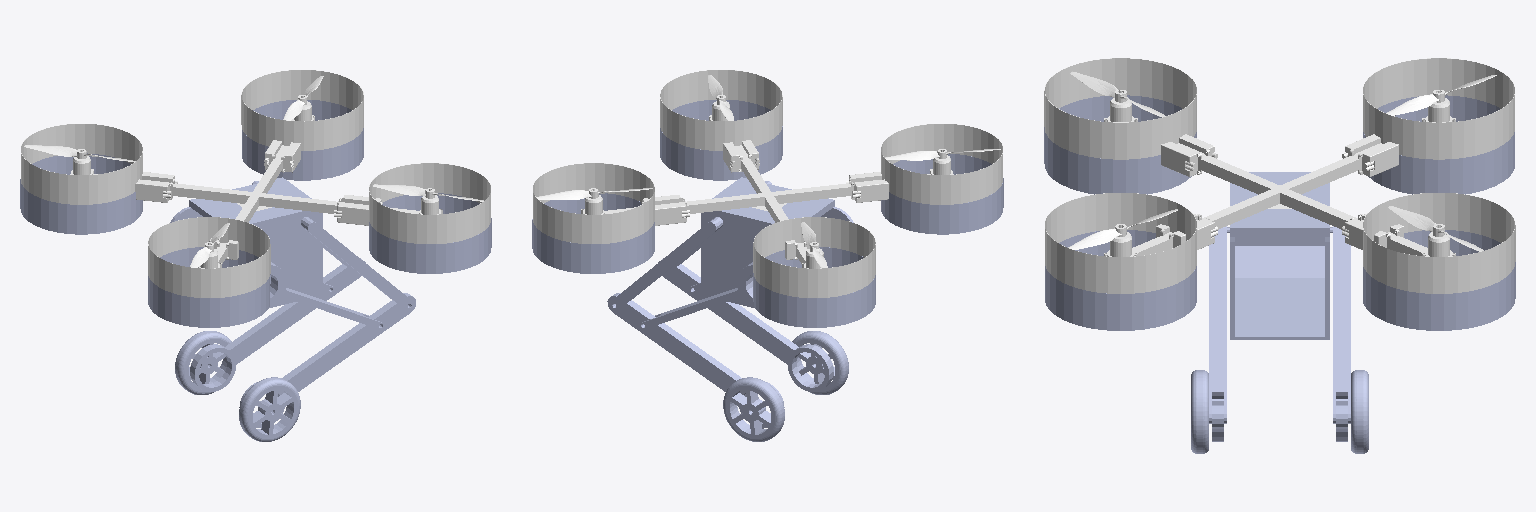
--- What the picture shows (computed from the rendered views, not written in the file) ---
The picture shows the robot from 3 angles, left to right: view 1: azimuth 30°, elevation 25°; view 2: azimuth 150°, elevation 25°; view 3: azimuth 270°, elevation 25°; orthographic projection.
Robot: flycar — 30 links, 29 joints (6 revolute, 2 continuous, 21 fixed); root link base_link; default pose: every joint at zero.
Visible links, largest first — view 1: shan2, sahn4, shan1, shan3, tou, shan21, shan41, shan11, shan31, youxia11, base_link, zuolun1 (+6 smaller); view 2: shan3, shan1, sahn4, shan2, tou, shan31, shan11, shan41, shan21, zuoxia, base_link, youlun (+6 smaller); view 3: tou, sahn4, shan2, shan1, shan3, shan31, shan21, base_link, shan11, shan41, zuo11, you11 (+6 smaller).
Link boxes in pixels (x1,y1,x2,y2): shan2: (369, 163, 490, 243); sahn4: (21, 124, 142, 204); shan1: (148, 217, 270, 297); shan3: (241, 70, 363, 150); tou: (170, 177, 322, 307); shan21: (369, 193, 491, 273); shan41: (20, 153, 142, 234); shan11: (148, 247, 269, 327); shan31: (242, 100, 363, 180); youxia11: (190, 258, 365, 391); base_link: (93, 145, 418, 263); zuolun1: (239, 377, 300, 441); shan3: (533, 163, 654, 243); shan1: (881, 124, 1002, 204); sahn4: (753, 217, 875, 297); shan2: (660, 70, 782, 150); tou: (701, 177, 853, 307); shan31: (532, 193, 654, 273); shan11: (881, 154, 1003, 234); shan41: (753, 247, 875, 327); shan21: (660, 100, 782, 180); zuoxia: (658, 258, 833, 391); base_link: (605, 145, 930, 263); youlun: (723, 377, 784, 441); tou: (1227, 172, 1332, 339); sahn4: (1363, 58, 1514, 159); shan2: (1045, 193, 1196, 293); shan1: (1044, 58, 1196, 159); shan3: (1363, 193, 1515, 293); shan31: (1363, 230, 1515, 330); shan21: (1045, 230, 1196, 330); base_link: (1132, 143, 1427, 255); shan11: (1044, 95, 1196, 194); shan41: (1363, 95, 1514, 194); zuo11: (1209, 226, 1226, 423); you11: (1333, 226, 1350, 423).
Size in the robot's own frame: 0.7853 by 0.7853 by 0.5581 metres.
Meshes: 30 distinct files referenced, 26 mesh visuals loaded (26 binary STL); not drawn: 4 (reference not matched to a file when rendering).

robot.urdf — flycar:
<?xml version="1.0" encoding="utf-8"?>
<!-- This URDF was automatically created by SolidWorks to URDF Exporter! Originally created by Stephen Brawner ([email redacted]) 
     Commit Version: 1.6.0-4-g7f85cfe  Build Version: 1.6.7995.38578
     For more information, please see http://wiki.ros.org/sw_urdf_exporter -->
<robot
  name="flycar">
  <link
    name="base_link">
    <inertial>
      <origin
        xyz="-0.0182124633794695 -0.279999999999859 0.0962073296263657"
        rpy="0 0 0" />
      <mass
        value="0.650996744463774" />
      <inertia
        ixx="0.0147521285230154"
        ixy="-1.98316660206466E-14"
        ixz="1.64644284963636E-15"
        iyy="0.0147521285230157"
        iyz="1.28047444670551E-16"
        izz="0.0294437767852134" />
    </inertial>
    <visual>
      <origin
        xyz="0 0 0"
        rpy="0 0 0" />
      <geometry>
        <mesh
          filename="package://flycar/meshes/base_link.STL" />
      </geometry>
      <material
        name="">
        <color
          rgba="1 1 1 1" />
      </material>
    </visual>
    <collision>
      <origin
        xyz="0 0 0"
        rpy="0 0 0" />
      <geometry>
        <mesh
          filename="package://flycar/meshes/base_link.STL" />
      </geometry>
    </collision>
  </link>
  <link
    name="shan1">
    <inertial>
      <origin
        xyz="0.0130510061555961 0.00670922605388478 0.380734911996731"
        rpy="0 0 0" />
      <mass
        value="0.091059098694857" />
      <inertia
        ixx="0.000254430172839092"
        ixy="3.98832476084305E-12"
        ixz="9.87669263163625E-06"
        iyy="0.000472158411726339"
        iyz="2.73585065381819E-11"
        izz="0.00025785072195545" />
    </inertial>
    <visual>
      <origin
        xyz="0 0 0"
        rpy="0 0 0" />
      <geometry>
        <mesh
          filename="package://flycar/meshes/shan1.STL" />
      </geometry>
      <material
        name="">
        <color
          rgba="1 1 1 1" />
      </material>
    </visual>
    <collision>
      <origin
        xyz="0 0 0"
        rpy="0 0 0" />
      <geometry>
        <mesh
          filename="package://flycar/meshes/shan1.STL" />
      </geometry>
    </collision>
  </link>
  <joint
    name="blade1up"
    type="fixed">
    <origin
      xyz="-0.29643 -0.16443 0.12194"
      rpy="1.5708 0 0" />
    <parent
      link="base_link" />
    <child
      link="shan1" />
    <axis
      xyz="0 0 0" />
  </joint>
  <link
    name="shan2">
    <inertial>
      <origin
        xyz="0.0613233745309867 0.0363128625038329 -0.00299422071796496"
        rpy="0 0 0" />
      <mass
        value="0.0910590982796897" />
      <inertia
        ixx="0.000262541844060338"
        ixy="1.5070280984683E-11"
        ixz="7.71337321262446E-06"
        iyy="0.000472158406197901"
        iyz="2.32021279961897E-11"
        izz="0.000249739045209857" />
    </inertial>
    <visual>
      <origin
        xyz="0 0 0"
        rpy="0 0 0" />
      <geometry>
        <mesh
          filename="package://flycar/meshes/shan2.STL" />
      </geometry>
      <material
        name="">
        <color
          rgba="1 1 1 1" />
      </material>
    </visual>
    <collision>
      <origin
        xyz="0 0 0"
        rpy="0 0 0" />
      <geometry>
        <mesh
          filename="package://flycar/meshes/shan2.STL" />
      </geometry>
    </collision>
  </link>
  <joint
    name="blade2up"
    type="fixed">
    <origin
      xyz="0.22399 -0.60211 0.092336"
      rpy="1.5708 0 1.1387" />
    <parent
      link="base_link" />
    <child
      link="shan2" />
    <axis
      xyz="0 0 0" />
  </joint>
  <link
    name="shan3">
    <inertial>
      <origin
        xyz="0.0130510059163607 0.00670922598726396 0.380734912242198"
        rpy="0 0 0" />
      <mass
        value="0.0910590984874694" />
      <inertia
        ixx="0.000254430171318802"
        ixy="3.97103585018592E-12"
        ixz="9.87669084123789E-06"
        iyy="0.00047215840811114"
        iyz="2.73817318194871E-11"
        izz="0.000257850719864821" />
    </inertial>
    <visual>
      <origin
        xyz="0 0 0"
        rpy="0 0 0" />
      <geometry>
        <mesh
          filename="package://flycar/meshes/shan3.STL" />
      </geometry>
      <material
        name="fist">
        <color
          rgba="1 1 1 1" />
      </material>
    </visual>
    <collision>
      <origin
        xyz="0 0 0"
        rpy="0 0 0" />
      <geometry>
        <mesh
          filename="package://flycar/meshes/shan3.STL" />
      </geometry>
    </collision>
  </link>
  <joint
    name="blade3up"
    type="fixed">
    <origin
      xyz="0.26 -0.39557 0.12194"
      rpy="1.5708 0 3.1416" />
    <parent
      link="base_link" />
    <child
      link="shan3" />
    <axis
      xyz="0 0 0" />
  </joint>
  <link
    name="sahn4">
    <inertial>
      <origin
        xyz="0.013051006225007 -0.00670922590719912 -0.38073491195847"
        rpy="0 0 0" />
      <mass
        value="0.0910590981925272" />
      <inertia
        ixx="0.000254430171057355"
        ixy="-3.98509281177033E-12"
        ixz="-9.87669055865808E-06"
        iyy="0.000472158407519526"
        iyz="2.73644666983244E-11"
        izz="0.000257850719529874" />
    </inertial>
    <visual>
      <origin
        xyz="0 0 0"
        rpy="0 0 0" />
      <geometry>
        <mesh
          filename="package://flycar/meshes/sahn4.STL" />
      </geometry>
      <material
        name="">
        <color
          rgba="1 1 1 1" />
      </material>
    </visual>
    <collision>
      <origin
        xyz="0 0 0"
        rpy="0 0 0" />
      <geometry>
        <mesh
          filename="package://flycar/meshes/sahn4.STL" />
      </geometry>
    </collision>
  </link>
  <joint
    name="blade4up"
    type="fixed">
    <origin
      xyz="0.097357 -0.001784 0.12194"
      rpy="-1.5708 0 -1.5708" />
    <parent
      link="base_link" />
    <child
      link="sahn4" />
    <axis
      xyz="0 0 0" />
  </joint>
  <link
    name="tou">
    <inertial>
      <origin
        xyz="-0.134824310995846 0.115041097999054 -0.0750000000000001"
        rpy="0 0 0" />
      <mass
        value="1.522713843331" />
      <inertia
        ixx="0.0149257458036302"
        ixy="-0.000921583154264689"
        ixz="3.90000326433926E-18"
        iyy="0.0167821545637735"
        iyz="1.17137314330476E-18"
        izz="0.0184692661677145" />
    </inertial>
    <visual>
      <origin
        xyz="0 0 0"
        rpy="0 0 0" />
      <geometry>
        <mesh
          filename="package://flycar/meshes/tou.STL" />
      </geometry>
      <material
        name="">
        <color
          rgba="0.792156862745098 0.819607843137255 0.933333333333333 1" />
      </material>
    </visual>
    <collision>
      <origin
        xyz="0 0 0"
        rpy="0 0 0" />
      <geometry>
        <mesh
          filename="package://flycar/meshes/tou.STL" />
      </geometry>
    </collision>
  </link>
  <joint
    name="head"
    type="fixed">
    <origin
      xyz="0.094742 -0.355 -0.11666"
      rpy="1.5708 0 0" />
    <parent
      link="base_link" />
    <child
      link="tou" />
    <axis
      xyz="0 0 0" />
  </joint>
  <link
    name="zuo">
    <inertial>
      <origin
        xyz="0.0716717779429541 8.32667268468867E-17 0.0150000000000001"
        rpy="0 0 0" />
      <mass
        value="0.254971008311362" />
      <inertia
        ixx="0.000143913945586389"
        ixy="3.18484388167617E-19"
        ixz="-3.24407258987913E-18"
        iyy="0.00246825453258363"
        iyz="-9.74764294418046E-20"
        izz="0.00257290646446158" />
    </inertial>
    <visual>
      <origin
        xyz="0 0 0"
        rpy="0 0 0" />
      <geometry>
        <mesh
          filename="package://flycar/meshes/zuo.STL" />
      </geometry>
      <material
        name="">
        <color
          rgba="0.792156862745098 0.819607843137255 0.933333333333333 1" />
      </material>
    </visual>
    <collision>
      <origin
        xyz="0 0 0"
        rpy="0 0 0" />
      <geometry>
        <mesh
          filename="package://flycar/meshes/zuo.STL" />
      </geometry>
    </collision>
  </link>
  <joint
    name="left hip"
    type="revolute">
    <origin
      xyz="-0.15637 0.068631 0.013"
      rpy="0 0 -0.50761" />
    <parent
      link="tou" />
    <child
      link="zuo" />
    <axis
      xyz="0 0 1" />
    <limit
      lower="0"
      upper="0"
      effort="0"
      velocity="0" />
  </joint>
  <link
    name="zuoxia">
    <inertial>
      <origin
        xyz="-0.194914767890928 1.17683640610267E-14 0.00999999999999973"
        rpy="0 0 0" />
      <mass
        value="0.327867300642188" />
      <inertia
        ixx="0.000105165440495972"
        ixy="5.83436294068762E-18"
        ixz="-6.63804471836475E-18"
        iyy="0.00495572549888622"
        iyz="4.65228864046098E-20"
        izz="0.00503903311933938" />
    </inertial>
    <visual>
      <origin
        xyz="0 0 0"
        rpy="0 0 0" />
      <geometry>
        <mesh
          filename="package://flycar/meshes/zuoxia.STL" />
      </geometry>
      <material
        name="">
        <color
          rgba="0.792156862745098 0.819607843137255 0.933333333333333 1" />
      </material>
    </visual>
    <collision>
      <origin
        xyz="0 0 0"
        rpy="0 0 0" />
      <geometry>
        <mesh
          filename="package://flycar/meshes/zuoxia.STL" />
      </geometry>
    </collision>
  </link>
  <joint
    name="left ankle"
    type="revolute">
    <origin
      xyz="0.36022 0.059837 0.005"
      rpy="0 0 0.92369" />
    <parent
      link="zuo" />
    <child
      link="zuoxia" />
    <axis
      xyz="0 0 1" />
    <limit
      lower="0"
      upper="0"
      effort="0"
      velocity="0" />
  </joint>
  <link
    name="lun1">
    <inertial>
      <origin
        xyz="2.45636844198316E-14 4.40758540776187E-14 0.0150000000000002"
        rpy="0 0 0" />
      <mass
        value="0.297523179657174" />
      <inertia
        ixx="0.000436067791446482"
        ixy="-2.16840434497101E-19"
        ixz="-1.57926199076428E-19"
        iyy="0.000436067791446482"
        iyz="2.71465102576709E-19"
        izz="0.000830824034432122" />
    </inertial>
    <visual>
      <origin
        xyz="0 0 0"
        rpy="0 0 0" />
      <geometry>
        <mesh
          filename="package://flycar/meshes/lun1.STL" />
      </geometry>
      <material
        name="">
        <color
          rgba="0.792156862745098 0.819607843137255 0.933333333333333 1" />
      </material>
    </visual>
    <collision>
      <origin
        xyz="0 0 0"
        rpy="0 0 0" />
      <geometry>
        <mesh
          filename="package://flycar/meshes/lun1.STL" />
      </geometry>
    </collision>
  </link>
  <joint
    name="left wheel"
    type="continuous">
    <origin
      xyz="-0.376 0 0.025"
      rpy="0 0 -0.5493" />
    <parent
      link="zuoxia" />
    <child
      link="lun1" />
    <axis
      xyz="0 0 1" />
  </joint>
  <link
    name="you">
    <inertial>
      <origin
        xyz="0.0694143647456296 -0.137599241336888 -0.0149999999999999"
        rpy="0 0 0" />
      <mass
        value="0.254971008311362" />
      <inertia
        ixx="0.000323097906280746"
        ixy="-0.000619981984101711"
        ixz="2.8974111371265E-18"
        iyy="0.00228907057188927"
        iyz="9.34453038612362E-19"
        izz="0.00257290646446158" />
    </inertial>
    <visual>
      <origin
        xyz="0 0 0"
        rpy="0 0 0" />
      <geometry>
        <mesh
          filename="package://flycar/meshes/you.STL" />
      </geometry>
      <material
        name="">
        <color
          rgba="0.792156862745098 0.819607843137255 0.933333333333333 1" />
      </material>
    </visual>
    <collision>
      <origin
        xyz="0 0 0"
        rpy="0 0 0" />
      <geometry>
        <mesh
          filename="package://flycar/meshes/you.STL" />
      </geometry>
    </collision>
  </link>
  <joint
    name="right hip"
    type="revolute">
    <origin
      xyz="-0.045 0.18 -0.163"
      rpy="0 0 -0.78896" />
    <parent
      link="tou" />
    <child
      link="you" />
    <axis
      xyz="0 0 1" />
    <limit
      lower="0"
      upper="0"
      effort="0"
      velocity="0" />
  </joint>
  <link
    name="youxia">
    <inertial>
      <origin
        xyz="-0.194914767890853 5.37903055430888E-14 0.0100000000000002"
        rpy="0 0 0" />
      <mass
        value="0.327867300642188" />
      <inertia
        ixx="0.000105165440495971"
        ixy="5.69544953733792E-18"
        ixz="6.34972695660545E-18"
        iyy="0.00495572549888621"
        iyz="-2.82976999504252E-20"
        izz="0.00503903311933937" />
    </inertial>
    <visual>
      <origin
        xyz="0 0 0"
        rpy="0 0 0" />
      <geometry>
        <mesh
          filename="package://flycar/meshes/youxia.STL" />
      </geometry>
      <material
        name="">
        <color
          rgba="0.792156862745098 0.819607843137255 0.933333333333333 1" />
      </material>
    </visual>
    <collision>
      <origin
        xyz="0 0 0"
        rpy="0 0 0" />
      <geometry>
        <mesh
          filename="package://flycar/meshes/youxia.STL" />
      </geometry>
    </collision>
  </link>
  <joint
    name="right ankle"
    type="revolute">
    <origin
      xyz="0.33 0 -0.025"
      rpy="0 0 1.205" />
    <parent
      link="you" />
    <child
      link="youxia" />
    <axis
      xyz="0 0 1" />
    <limit
      lower="0"
      upper="0"
      effort="0"
      velocity="0" />
  </joint>
  <link
    name="lun2">
    <inertial>
      <origin
        xyz="7.63278329429795E-17 -1.11022302462516E-16 0.015"
        rpy="0 0 0" />
      <mass
        value="0.297523179657174" />
      <inertia
        ixx="0.000436067791446482"
        ixy="-2.47333620598256E-19"
        ixz="1.42926984221252E-19"
        iyy="0.000436067791446482"
        iyz="-3.22439621145586E-19"
        izz="0.000830824034432122" />
    </inertial>
    <visual>
      <origin
        xyz="0 0 0"
        rpy="0 0 0" />
      <geometry>
        <mesh
          filename="package://flycar/meshes/lun2.STL" />
      </geometry>
      <material
        name="">
        <color
          rgba="0.792156862745098 0.819607843137255 0.933333333333333 1" />
      </material>
    </visual>
    <collision>
      <origin
        xyz="0 0 0"
        rpy="0 0 0" />
      <geometry>
        <mesh
          filename="package://flycar/meshes/lun2.STL" />
      </geometry>
    </collision>
  </link>
  <joint
    name="right wheel"
    type="continuous">
    <origin
      xyz="-0.376 0 -0.035"
      rpy="0 0 -0.5493" />
    <parent
      link="youxia" />
    <child
      link="lun2" />
    <axis
      xyz="0 0 1" />
  </joint>
  <link
    name="zuo11">
    <inertial>
      <origin
        xyz="0.150289069798095 6.93889390390723E-17 0.0150000000000002"
        rpy="0 0 0" />
      <mass
        value="0.225786466067855" />
      <inertia
        ixx="2.88599547146493E-05"
        ixy="-8.8430239693349E-19"
        ixz="-2.06336674063016E-18"
        iyy="0.00190962909286552"
        iyz="1.13866822034248E-20"
        izz="0.00190276024097599" />
    </inertial>
    <visual>
      <origin
        xyz="0 0 0"
        rpy="0 0 0" />
      <geometry>
        <mesh
          filename="package://flycar/meshes/zuo11.STL" />
      </geometry>
      <material
        name="">
        <color
          rgba="0.792156862745098 0.819607843137255 0.933333333333333 1" />
      </material>
    </visual>
    <collision>
      <origin
        xyz="0 0 0"
        rpy="0 0 0" />
      <geometry>
        <mesh
          filename="package://flycar/meshes/zuo11.STL" />
      </geometry>
    </collision>
  </link>
  <joint
    name="left shoulder"
    type="revolute">
    <origin
      xyz="-0.045 0.18 0.013"
      rpy="0 0 -0.78896" />
    <parent
      link="tou" />
    <child
      link="zuo11" />
    <axis
      xyz="0 0 1" />
    <limit
      lower="0"
      upper="0"
      effort="0"
      velocity="0" />
  </joint>
  <link
    name="zuoxia11">
    <inertial>
      <origin
        xyz="-0.194914767890928 1.17683640610267E-14 0.00999999999999973"
        rpy="0 0 0" />
      <mass
        value="0.327867300642188" />
      <inertia
        ixx="0.000105165440495971"
        ixy="5.45489218031769E-18"
        ixz="-6.63804471836475E-18"
        iyy="0.00495572549888622"
        iyz="4.65228864046102E-20"
        izz="0.00503903311933938" />
    </inertial>
    <visual>
      <origin
        xyz="0 0 0"
        rpy="0 0 0" />
      <geometry>
        <mesh
          filename="package://flycar/meshes/zuoxia11.STL" />
      </geometry>
      <material
        name="">
        <color
          rgba="0.792156862745098 0.819607843137255 0.933333333333333 1" />
      </material>
    </visual>
    <collision>
      <origin
        xyz="0 0 0"
        rpy="0 0 0" />
      <geometry>
        <mesh
          filename="package://flycar/meshes/zuoxia11.STL" />
      </geometry>
    </collision>
  </link>
  <joint
    name="left knee"
    type="fixed">
    <origin
      xyz="0.33 0 0.005"
      rpy="0 0 1.205" />
    <parent
      link="zuo11" />
    <child
      link="zuoxia11" />
    <axis
      xyz="0 0 0" />
    <limit
      lower="0"
      upper="0"
      effort="0"
      velocity="0" />
  </joint>
  <link
    name="zuolun1">
    <inertial>
      <origin
        xyz="2.45636844198316E-14 4.40758540776187E-14 0.0150000000000002"
        rpy="0 0 0" />
      <mass
        value="0.297523179657174" />
      <inertia
        ixx="0.000436067791446482"
        ixy="-2.23616698075135E-19"
        ixz="-1.57926199076428E-19"
        iyy="0.000436067791446482"
        iyz="2.71465102576709E-19"
        izz="0.000830824034432122" />
    </inertial>
    <visual>
      <origin
        xyz="0 0 0"
        rpy="0 0 0" />
      <geometry>
        <mesh
          filename="package://flycar/meshes/zuolun1.STL" />
      </geometry>
      <material
        name="">
        <color
          rgba="0.792156862745098 0.819607843137255 0.933333333333333 1" />
      </material>
    </visual>
    <collision>
      <origin
        xyz="0 0 0"
        rpy="0 0 0" />
      <geometry>
        <mesh
          filename="package://flycar/meshes/zuolun1.STL" />
      </geometry>
    </collision>
  </link>
  <joint
    name="left wheel1"
    type="fixed">
    <origin
      xyz="-0.376 0 0.025"
      rpy="0 0 -0.5493" />
    <parent
      link="zuoxia11" />
    <child
      link="zuolun1" />
    <axis
      xyz="0 0 0" />
  </joint>
  <link
    name="you11">
    <inertial>
      <origin
        xyz="0.150289069798095 -1.11022302462516E-16 -0.015"
        rpy="0 0 0" />
      <mass
        value="0.225786466067855" />
      <inertia
        ixx="2.88599547146491E-05"
        ixy="-6.61532731805609E-19"
        ixz="1.7903665450827E-18"
        iyy="0.00190962909286551"
        iyz="2.09060800354936E-20"
        izz="0.00190276024097599" />
    </inertial>
    <visual>
      <origin
        xyz="0 0 0"
        rpy="0 0 0" />
      <geometry>
        <mesh
          filename="package://flycar/meshes/you11.STL" />
      </geometry>
      <material
        name="">
        <color
          rgba="0.792156862745098 0.819607843137255 0.933333333333333 1" />
      </material>
    </visual>
    <collision>
      <origin
        xyz="0 0 0"
        rpy="0 0 0" />
      <geometry>
        <mesh
          filename="package://flycar/meshes/you11.STL" />
      </geometry>
    </collision>
  </link>
  <joint
    name="right shoulder"
    type="revolute">
    <origin
      xyz="-0.045 0.18 -0.163"
      rpy="0 0 -0.78896" />
    <parent
      link="tou" />
    <child
      link="you11" />
    <axis
      xyz="0 0 1" />
    <limit
      lower="0"
      upper="0"
      effort="0"
      velocity="0" />
  </joint>
  <link
    name="youxia11">
    <inertial>
      <origin
        xyz="-0.194914767890853 5.37903055430888E-14 0.0100000000000002"
        rpy="0 0 0" />
      <mass
        value="0.327867300642188" />
      <inertia
        ixx="0.000105165440495972"
        ixy="5.73610711880612E-18"
        ixz="6.34972695660545E-18"
        iyy="0.00495572549888621"
        iyz="-2.82976999504264E-20"
        izz="0.00503903311933937" />
    </inertial>
    <visual>
      <origin
        xyz="0 0 0"
        rpy="0 0 0" />
      <geometry>
        <mesh
          filename="package://flycar/meshes/youxia11.STL" />
      </geometry>
      <material
        name="">
        <color
          rgba="0.792156862745098 0.819607843137255 0.933333333333333 1" />
      </material>
    </visual>
    <collision>
      <origin
        xyz="0 0 0"
        rpy="0 0 0" />
      <geometry>
        <mesh
          filename="package://flycar/meshes/youxia11.STL" />
      </geometry>
    </collision>
  </link>
  <joint
    name="right knee"
    type="fixed">
    <origin
      xyz="0.33 0 -0.025"
      rpy="0 0 1.205" />
    <parent
      link="you11" />
    <child
      link="youxia11" />
    <axis
      xyz="0 0 0" />
    <limit
      lower="0"
      upper="0"
      effort="0"
      velocity="0" />
  </joint>
  <link
    name="youlun">
    <inertial>
      <origin
        xyz="7.63278329429795E-17 -1.11022302462516E-16 0.015"
        rpy="0 0 0" />
      <mass
        value="0.297523179657173" />
      <inertia
        ixx="0.000436067791446482"
        ixy="-2.03287907341032E-19"
        ixz="1.42926984221252E-19"
        iyy="0.000436067791446482"
        iyz="-3.22439621145586E-19"
        izz="0.000830824034432121" />
    </inertial>
    <visual>
      <origin
        xyz="0 0 0"
        rpy="0 0 0" />
      <geometry>
        <mesh
          filename="package://flycar/meshes/youlun.STL" />
      </geometry>
      <material
        name="">
        <color
          rgba="0.792156862745098 0.819607843137255 0.933333333333333 1" />
      </material>
    </visual>
    <collision>
      <origin
        xyz="0 0 0"
        rpy="0 0 0" />
      <geometry>
        <mesh
          filename="package://flycar/meshes/youlun.STL" />
      </geometry>
    </collision>
  </link>
  <joint
    name="right wheel1"
    type="fixed">
    <origin
      xyz="-0.376 0 -0.035"
      rpy="0 0 -0.5493" />
    <parent
      link="youxia11" />
    <child
      link="youlun" />
    <axis
      xyz="0 0 0" />
  </joint>
  <link
    name="dianshua1">
    <inertial>
      <origin
        xyz="-0.000364749901856032 -0.0299936137523494 2.77555756156289E-17"
        rpy="0 0 0" />
      <mass
        value="0.0614798977632467" />
      <inertia
        ixx="9.44146483925111E-06"
        ixy="-1.35207664940059E-07"
        ixz="1.05860758050852E-20"
        iyy="4.13720218048329E-05"
        iyz="-1.7442308248811E-21"
        izz="3.60492613594554E-05" />
    </inertial>
    <visual>
      <origin
        xyz="0 0 0"
        rpy="0 0 0" />
      <geometry>
        <mesh
          filename="package://flycar/meshes/dianshua1.STL" />
      </geometry>
      <material
        name="">
        <color
          rgba="1 1 1 1" />
      </material>
    </visual>
    <collision>
      <origin
        xyz="0 0 0"
        rpy="0 0 0" />
      <geometry>
        <mesh
          filename="package://flycar/meshes/dianshua1.STL" />
      </geometry>
    </collision>
  </link>
  <joint
    name="right brush1"
    type="fixed">
    <origin
      xyz="-0.16883 -0.44476 0.097336"
      rpy="0 0 -2.3562" />
    <parent
      link="base_link" />
    <child
      link="dianshua1" />
    <axis
      xyz="0 0 0" />
  </joint>
  <link
    name="dianshua2">
    <inertial>
      <origin
        xyz="-0.000364749901856518 0.0099936137519919 -1.38777878078145E-17"
        rpy="0 0 0" />
      <mass
        value="0.0614798977632467" />
      <inertia
        ixx="9.44146483925109E-06"
        ixy="1.35207664939107E-07"
        ixz="-1.56386095012854E-20"
        iyy="4.13720218048329E-05"
        iyz="-5.5653418857482E-22"
        izz="3.60492613594554E-05" />
    </inertial>
    <visual>
      <origin
        xyz="0 0 0"
        rpy="0 0 0" />
      <geometry>
        <mesh
          filename="package://flycar/meshes/dianshua2.STL" />
      </geometry>
      <material
        name="">
        <color
          rgba="1 1 1 1" />
      </material>
    </visual>
    <collision>
      <origin
        xyz="0 0 0"
        rpy="0 0 0" />
      <geometry>
        <mesh
          filename="package://flycar/meshes/dianshua2.STL" />
      </geometry>
    </collision>
  </link>
  <joint
    name="right brush3"
    type="fixed">
    <origin
      xyz="0.1324 -0.11524 0.097336"
      rpy="0 0 0.7854" />
    <parent
      link="base_link" />
    <child
      link="dianshua2" />
    <axis
      xyz="0 0 0" />
  </joint>
  <link
    name="dianshua3">
    <inertial>
      <origin
        xyz="-0.000364749901856476 0.00999361375199193 0"
        rpy="0 0 0" />
      <mass
        value="0.0614798977632466" />
      <inertia
        ixx="9.44146483925108E-06"
        ixy="1.35207664939119E-07"
        ixz="-1.43634309445639E-20"
        iyy="4.13720218048328E-05"
        iyz="2.03157250737889E-22"
        izz="3.60492613594554E-05" />
    </inertial>
    <visual>
      <origin
        xyz="0 0 0"
        rpy="0 0 0" />
      <geometry>
        <mesh
          filename="package://flycar/meshes/dianshua3.STL" />
      </geometry>
      <material
        name="">
        <color
          rgba="1 1 1 1" />
      </material>
    </visual>
    <collision>
      <origin
        xyz="0 0 0"
        rpy="0 0 0" />
      <geometry>
        <mesh
          filename="package://flycar/meshes/dianshua3.STL" />
      </geometry>
    </collision>
  </link>
  <joint
    name="left brush2"
    type="fixed">
    <origin
      xyz="0.14654 -0.43061 0.097336"
      rpy="0 0 -0.7854" />
    <parent
      link="base_link" />
    <child
      link="dianshua3" />
    <axis
      xyz="0 0 0" />
  </joint>
  <link
    name="dianshua4">
    <inertial>
      <origin
        xyz="-0.00036474990185649 0.00999361375199187 1.38777878078145E-17"
        rpy="0 0 0" />
      <mass
        value="0.0614798977632467" />
      <inertia
        ixx="9.44146483925109E-06"
        ixy="1.35207664939109E-07"
        ixz="-9.5838925565504E-21"
        iyy="4.13720218048329E-05"
        iyz="-2.33746620306624E-21"
        izz="3.60492613594555E-05" />
    </inertial>
    <visual>
      <origin
        xyz="0 0 0"
        rpy="0 0 0" />
      <geometry>
        <mesh
          filename="package://flycar/meshes/dianshua4.STL" />
      </geometry>
      <material
        name="">
        <color
          rgba="1 1 1 1" />
      </material>
    </visual>
    <collision>
      <origin
        xyz="0 0 0"
        rpy="0 0 0" />
      <geometry>
        <mesh
          filename="package://flycar/meshes/dianshua4.STL" />
      </geometry>
    </collision>
  </link>
  <joint
    name="right brush4"
    type="fixed">
    <origin
      xyz="-0.16883 -0.11524 0.097336"
      rpy="-3.1416 0 2.3562" />
    <parent
      link="base_link" />
    <child
      link="dianshua4" />
    <axis
      xyz="0 0 0" />
  </joint>
  <link
    name="shan11">
    <inertial>
      <origin
        xyz="0.0613233475250202 -0.0261970222714186 -0.00299409683345653"
        rpy="0 0 0" />
      <mass
        value="0.0910591352179713" />
      <inertia
        ixx="0.000266154922321934"
        ixy="-2.54206514296999E-11"
        ixz="4.2910608930087E-07"
        iyy="0.000472158378253302"
        iyz="1.88508064647387E-11"
        izz="0.000246125940186041" />
    </inertial>
    <visual>
      <origin
        xyz="0 0 0"
        rpy="0 0 0" />
      <geometry>
        <mesh
          filename="package://flycar/meshes/shan11.STL" />
      </geometry>
      <material
        name="">
        <color
          rgba="0.792156862745098 0.819607843137255 0.933333333333333 1" />
      </material>
    </visual>
    <collision>
      <origin
        xyz="0 0 0"
        rpy="0 0 0" />
      <geometry>
        <mesh
          filename="package://flycar/meshes/shan11.STL" />
      </geometry>
    </collision>
  </link>
  <joint
    name="blade1down"
    type="fixed">
    <origin
      xyz="-0.34032 -0.5222 0.092336"
      rpy="1.5708 0 -0.43209" />
    <parent
      link="base_link" />
    <child
      link="shan11" />
    <axis
      xyz="0 0 0" />
  </joint>
  <link
    name="shan21">
    <inertial>
      <origin
        xyz="0.0613233475229382 -0.0261970223049054 -0.00299409708940868"
        rpy="0 0 0" />
      <mass
        value="0.0910591353189298" />
      <inertia
        ixx="0.000266154922840643"
        ixy="-2.54226529519989E-11"
        ixz="4.29106049900712E-07"
        iyy="0.000472158378770247"
        iyz="1.8840195976304E-11"
        izz="0.000246125940186041" />
    </inertial>
    <visual>
      <origin
        xyz="0 0 0"
        rpy="0 0 0" />
      <geometry>
        <mesh
          filename="package://flycar/meshes/shan21.STL" />
      </geometry>
      <material
        name="">
        <color
          rgba="0.792156862745098 0.819607843137255 0.933333333333333 1" />
      </material>
    </visual>
    <collision>
      <origin
        xyz="0 0 0"
        rpy="0 0 0" />
      <geometry>
        <mesh
          filename="package://flycar/meshes/shan21.STL" />
      </geometry>
    </collision>
  </link>
  <joint
    name="blade2down"
    type="fixed">
    <origin
      xyz="0.22399 -0.60211 0.092336"
      rpy="1.5708 0 1.1387" />
    <parent
      link="base_link" />
    <child
      link="shan21" />
    <axis
      xyz="0 0 0" />
  </joint>
  <link
    name="shan31">
    <inertial>
      <origin
        xyz="0.0613233476776904 -0.0261970212974139 -0.00299409708083249"
        rpy="0 0 0" />
      <mass
        value="0.0910591319362049" />
      <inertia
        ixx="0.000266154922544256"
        ixy="-2.53731567014985E-11"
        ixz="4.29106104132606E-07"
        iyy="0.000472158378358499"
        iyz="1.88582697486392E-11"
        izz="0.000246125940032365" />
    </inertial>
    <visual>
      <origin
        xyz="0 0 0"
        rpy="0 0 0" />
      <geometry>
        <mesh
          filename="package://flycar/meshes/shan31.STL" />
      </geometry>
      <material
        name="">
        <color
          rgba="0.792156862745098 0.819607843137255 0.933333333333333 1" />
      </material>
    </visual>
    <collision>
      <origin
        xyz="0 0 0"
        rpy="0 0 0" />
      <geometry>
        <mesh
          filename="package://flycar/meshes/shan31.STL" />
      </geometry>
    </collision>
  </link>
  <joint
    name="blade3down"
    type="fixed">
    <origin
      xyz="0.30389 -0.037796 0.092336"
      rpy="1.5708 0 2.7095" />
    <parent
      link="base_link" />
    <child
      link="shan31" />
    <axis
      xyz="0 0 0" />
  </joint>
  <link
    name="shan41">
    <inertial>
      <origin
        xyz="0.0613233476839502 -0.026197026216585 -0.00299409685042029"
        rpy="0 0 0" />
      <mass
        value="0.0910591491197046" />
      <inertia
        ixx="0.000266155085211546"
        ixy="-2.53716736067286E-11"
        ixz="4.29106640761433E-07"
        iyy="0.000472158541059013"
        iyz="1.88731595805593E-11"
        izz="0.000246125940070192" />
    </inertial>
    <visual>
      <origin
        xyz="0 0 0"
        rpy="0 0 0" />
      <geometry>
        <mesh
          filename="package://flycar/meshes/shan41.STL" />
      </geometry>
      <material
        name="">
        <color
          rgba="0.792156862745098 0.819607843137255 0.933333333333333 1" />
      </material>
    </visual>
    <collision>
      <origin
        xyz="0 0 0"
        rpy="0 0 0" />
      <geometry>
        <mesh
          filename="package://flycar/meshes/shan41.STL" />
      </geometry>
    </collision>
  </link>
  <joint
    name="blade4down"
    type="fixed">
    <origin
      xyz="-0.26042 0.042106 0.092336"
      rpy="1.5708 0 -2.0029" />
    <parent
      link="base_link" />
    <child
      link="shan41" />
    <axis
      xyz="0 0 0" />
  </joint>
  <link
    name="dianshau11">
    <inertial>
      <origin
        xyz="-0.000364749901856476 0.00999361375199187 0"
        rpy="0 0 0" />
      <mass
        value="0.0614798977632466" />
      <inertia
        ixx="9.44146483925109E-06"
        ixy="1.35207664939107E-07"
        ixz="-1.94317751389853E-20"
        iyy="4.13720218048329E-05"
        iyz="-4.54038493762194E-21"
        izz="3.60492613594554E-05" />
    </inertial>
    <visual>
      <origin
        xyz="0 0 0"
        rpy="0 0 0" />
      <geometry>
        <mesh
          filename="package://flycar/meshes/dianshau11.STL" />
      </geometry>
      <material
        name="">
        <color
          rgba="1 1 1 1" />
      </material>
    </visual>
    <collision>
      <origin
        xyz="0 0 0"
        rpy="0 0 0" />
      <geometry>
        <mesh
          filename="package://flycar/meshes/dianshau11.STL" />
      </geometry>
    </collision>
  </link>
  <joint
    name="left brush1"
    type="fixed">
    <origin
      xyz="-0.16883 -0.44476 0.097336"
      rpy="0 0 -2.3562" />
    <parent
      link="base_link" />
    <child
      link="dianshau11" />
    <axis
      xyz="0 0 0" />
  </joint>
  <link
    name="dianshua21">
    <inertial>
      <origin
        xyz="-0.000364749901856504 0.00999361375199187 0"
        rpy="0 0 0" />
      <mass
        value="0.0614798977632467" />
      <inertia
        ixx="9.44146483925108E-06"
        ixy="1.35207664939087E-07"
        ixz="-1.07976452130115E-20"
        iyy="4.13720218048329E-05"
        iyz="1.40078893319743E-21"
        izz="3.60492613594554E-05" />
    </inertial>
    <visual>
      <origin
        xyz="0 0 0"
        rpy="0 0 0" />
      <geometry>
        <mesh
          filename="package://flycar/meshes/dianshua21.STL" />
      </geometry>
      <material
        name="">
        <color
          rgba="1 1 1 1" />
      </material>
    </visual>
    <collision>
      <origin
        xyz="0 0 0"
        rpy="0 0 0" />
      <geometry>
        <mesh
          filename="package://flycar/meshes/dianshua21.STL" />
      </geometry>
    </collision>
  </link>
  <joint
    name="left brush3"
    type="fixed">
    <origin
      xyz="0.14654 -0.12939 0.097336"
      rpy="3.1416 0 0.7854" />
    <parent
      link="base_link" />
    <child
      link="dianshua21" />
    <axis
      xyz="0 0 0" />
  </joint>
  <link
    name="dianshua31">
    <inertial>
      <origin
        xyz="-0.000364749901856531 0.00999361375199184 1.38777878078145E-17"
        rpy="0 0 0" />
      <mass
        value="0.0614798977632467" />
      <inertia
        ixx="9.4414648392511E-06"
        ixy="1.35207664939104E-07"
        ixz="-1.2569773469508E-20"
        iyy="4.13720218048329E-05"
        iyz="7.70105340968606E-23"
        izz="3.60492613594555E-05" />
    </inertial>
    <visual>
      <origin
        xyz="0 0 0"
        rpy="0 0 0" />
      <geometry>
        <mesh
          filename="package://flycar/meshes/dianshua31.STL" />
      </geometry>
      <material
        name="">
        <color
          rgba="1 1 1 1" />
      </material>
    </visual>
    <collision>
      <origin
        xyz="0 0 0"
        rpy="0 0 0" />
      <geometry>
        <mesh
          filename="package://flycar/meshes/dianshua31.STL" />
      </geometry>
    </collision>
  </link>
  <joint
    name="right brush2"
    type="fixed">
    <origin
      xyz="0.1324 -0.44476 0.097336"
      rpy="3.1416 0 -0.7854" />
    <parent
      link="base_link" />
    <child
      link="dianshua31" />
    <axis
      xyz="0 0 0" />
  </joint>
  <link
    name="dianshua41">
    <inertial>
      <origin
        xyz="-0.00036474990185649 0.00999361375199181 0"
        rpy="0 0 0" />
      <mass
        value="0.0614798977632466" />
      <inertia
        ixx="9.44146483925108E-06"
        ixy="1.35207664939094E-07"
        ixz="-1.14324802999E-20"
        iyy="4.13720218048329E-05"
        iyz="-8.80416840822301E-22"
        izz="3.60492613594554E-05" />
    </inertial>
    <visual>
      <origin
        xyz="0 0 0"
        rpy="0 0 0" />
      <geometry>
        <mesh
          filename="package://flycar/meshes/dianshua41.STL" />
      </geometry>
      <material
        name="">
        <color
          rgba="1 1 1 1" />
      </material>
    </visual>
    <collision>
      <origin
        xyz="0 0 0"
        rpy="0 0 0" />
      <geometry>
        <mesh
          filename="package://flycar/meshes/dianshua41.STL" />
      </geometry>
    </collision>
  </link>
  <joint
    name="left brush4"
    type="fixed">
    <origin
      xyz="-0.18297 -0.12939 0.097336"
      rpy="0 0 2.3562" />
    <parent
      link="base_link" />
    <child
      link="dianshua41" />
    <axis
      xyz="0 0 0" />
  </joint>
</robot>
